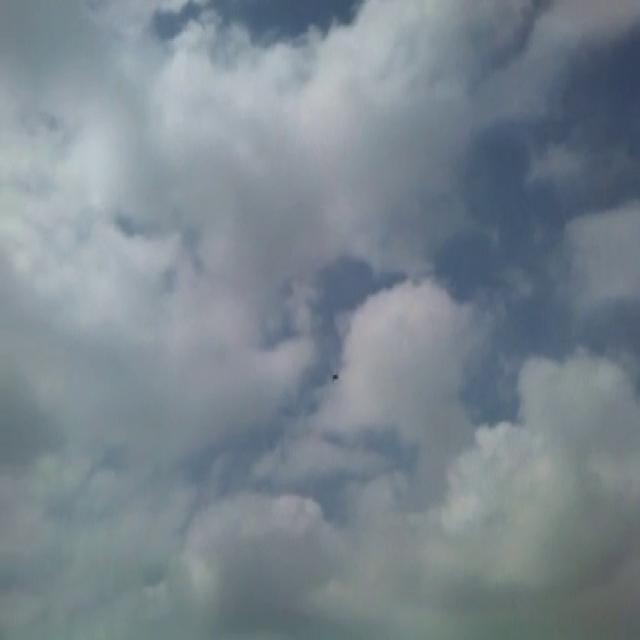drone: (328, 366, 340, 382)
